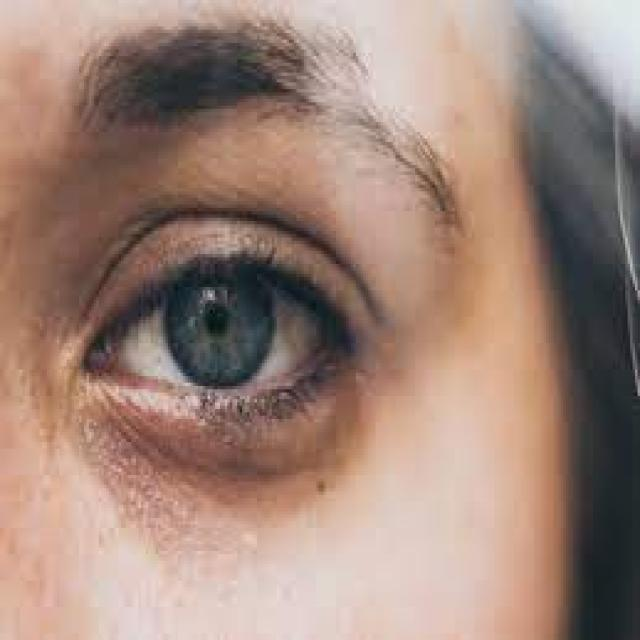Eyebags: (100, 365, 354, 485)
